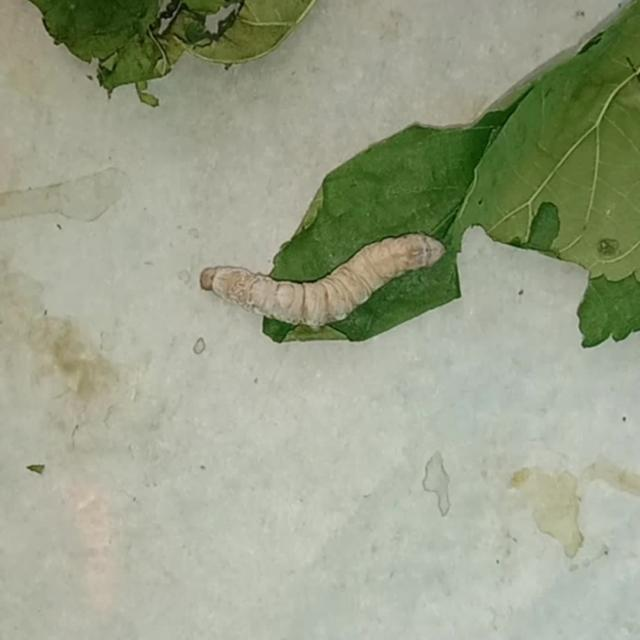Grasserie: (163, 199, 470, 401)
